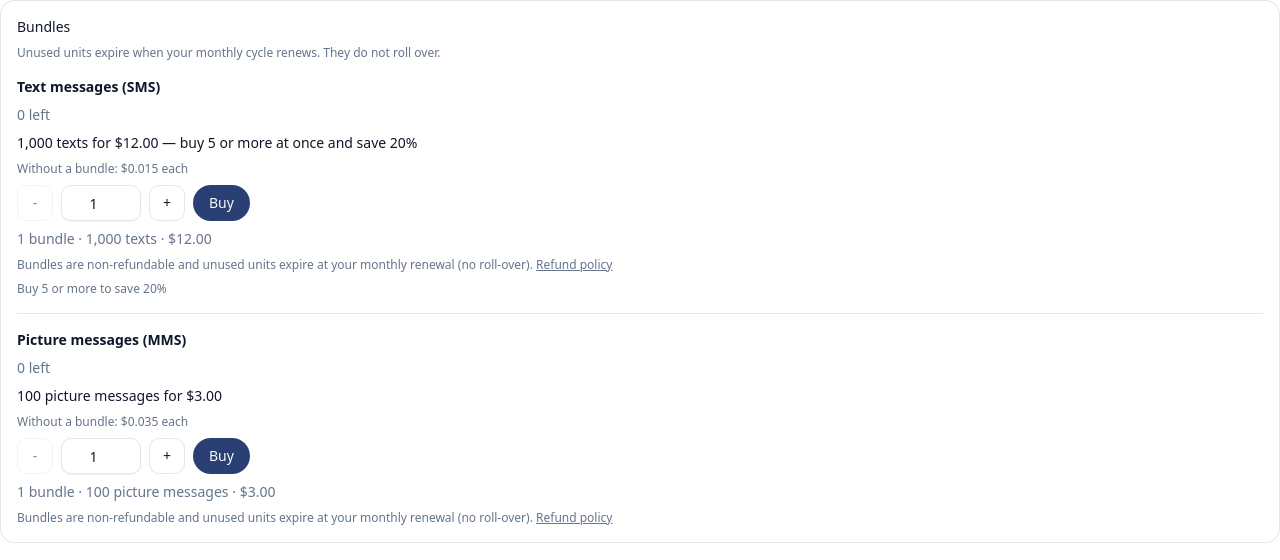
Test: BundlesCard › shows no savings below the volume minimum and the savings line at or above it (SMS)
The width and height of the screenshot is (1280, 560).
expect the heading "Text messages (SMS)" is shown: met, box x1=17 y1=77 x2=160 y2=96
Replace the text in the number field named "Text messages (SMS) bundle quantity" with "4". click: (101, 203)
box: x1=61 y1=185 x2=141 y2=221
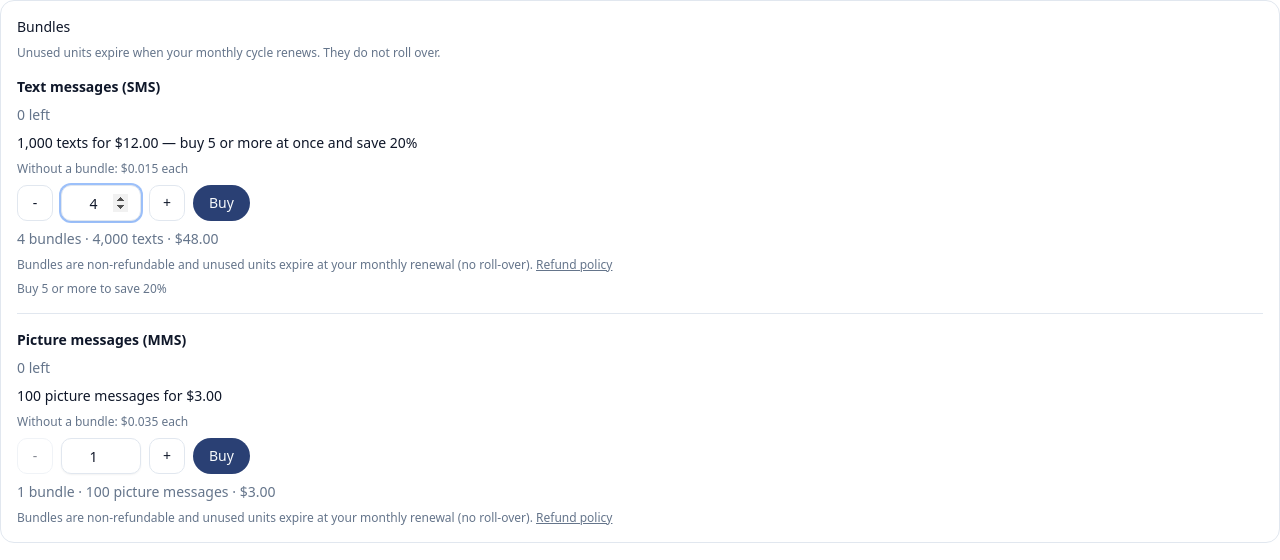
expect the text "you save" is not shown: met
expect the text "4 bundles · 4,000 texts · $48.00" is shown: met, box x1=17 y1=229 x2=219 y2=248
Replace the text in the number field named "Text messages (SMS) bundle quantity" with "5". click: (101, 203)
box: x1=61 y1=185 x2=141 y2=221
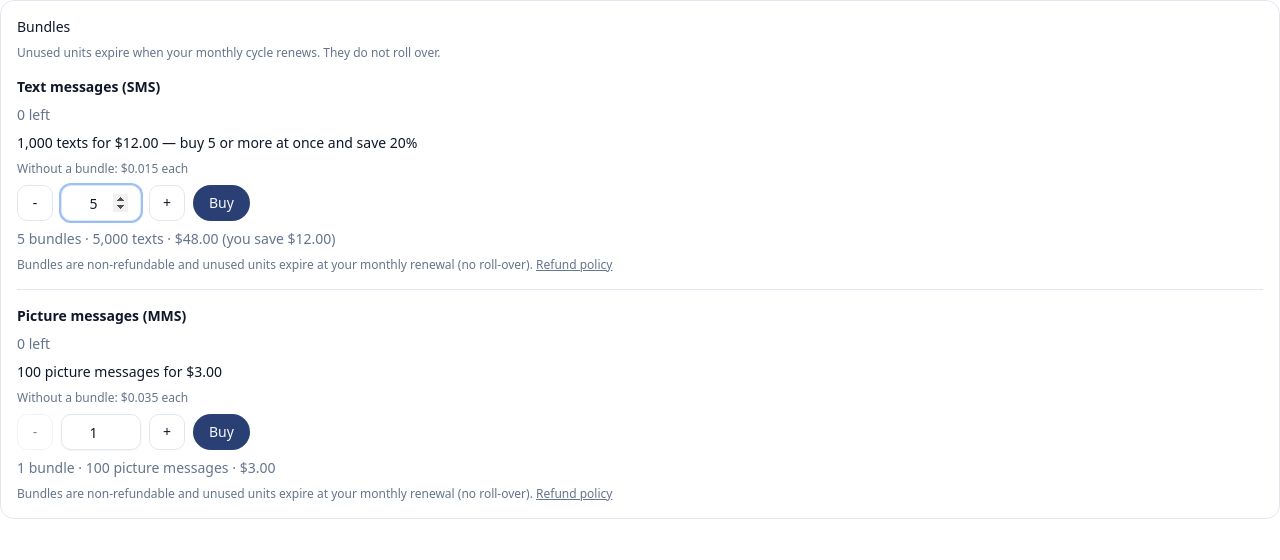
expect the text "5 bundles · 5,000 texts · $48.00 (you save $12.00)" is shown: met, box x1=17 y1=229 x2=336 y2=248
expect the text "Buy 5 or more to save 20%" is gone: met
